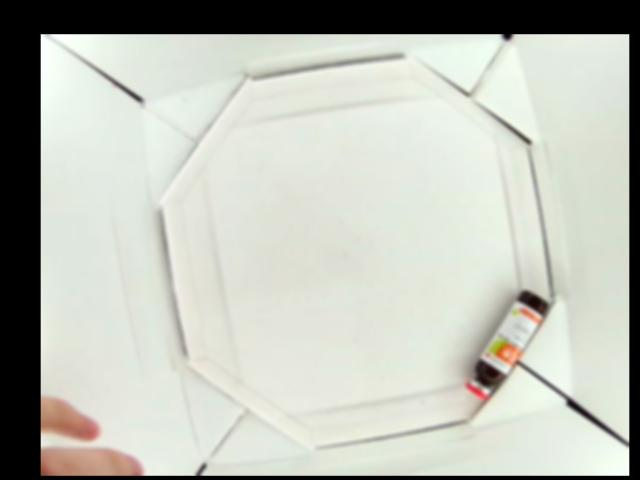Medicine: (467, 289, 549, 396)
